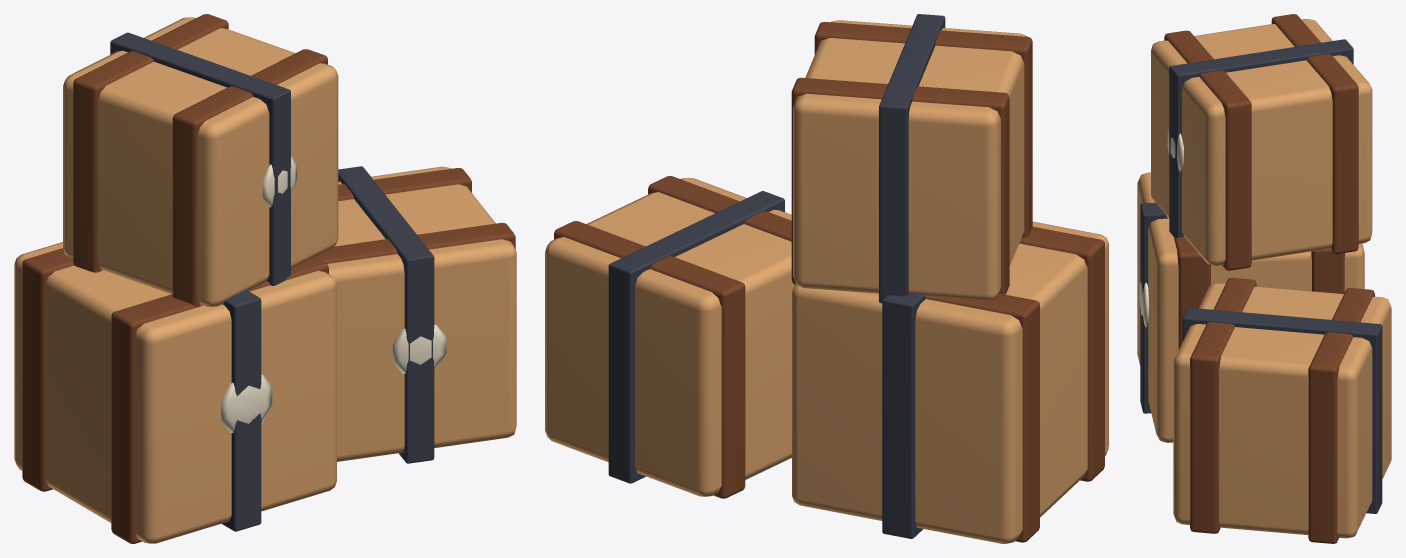
The model's file is cove_crates.glb.
3 views of the same model, side by side, from view 1: azimuth 30°, elevation 25°; view 2: azimuth 150°, elevation 25°; view 3: azimuth 270°, elevation 25° (orthographic). The views are drawn at different scales.
Visible parts, largest first — view 1: Crates; view 2: Crates; view 3: Crates.
Boxes of the visible parts, x1,y1,x2,y2 form: Crates: [14, 14, 516, 543]; Crates: [545, 14, 1108, 543]; Crates: [1137, 14, 1391, 543].
Size of the model in its own units: 2.17 by 1.89 by 1.21.
